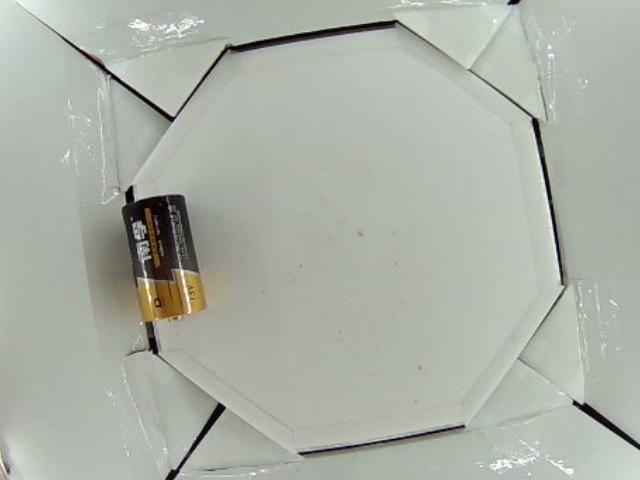Battery: (122, 192, 207, 325)
